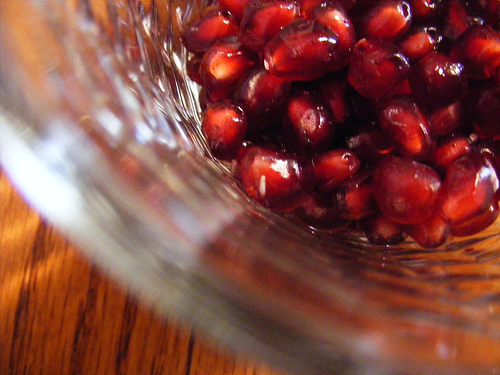pomogranate: (374, 156, 440, 226)
